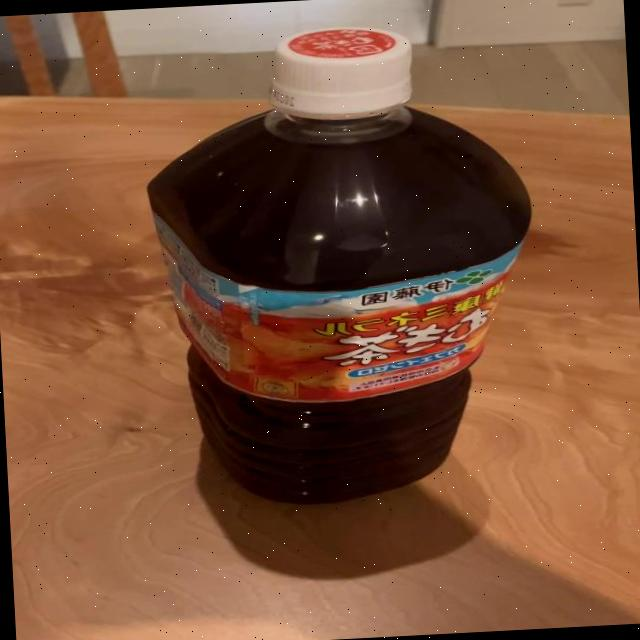bottle: (135, 17, 550, 516)
cap: (264, 21, 420, 110)
label: (194, 284, 456, 402)
